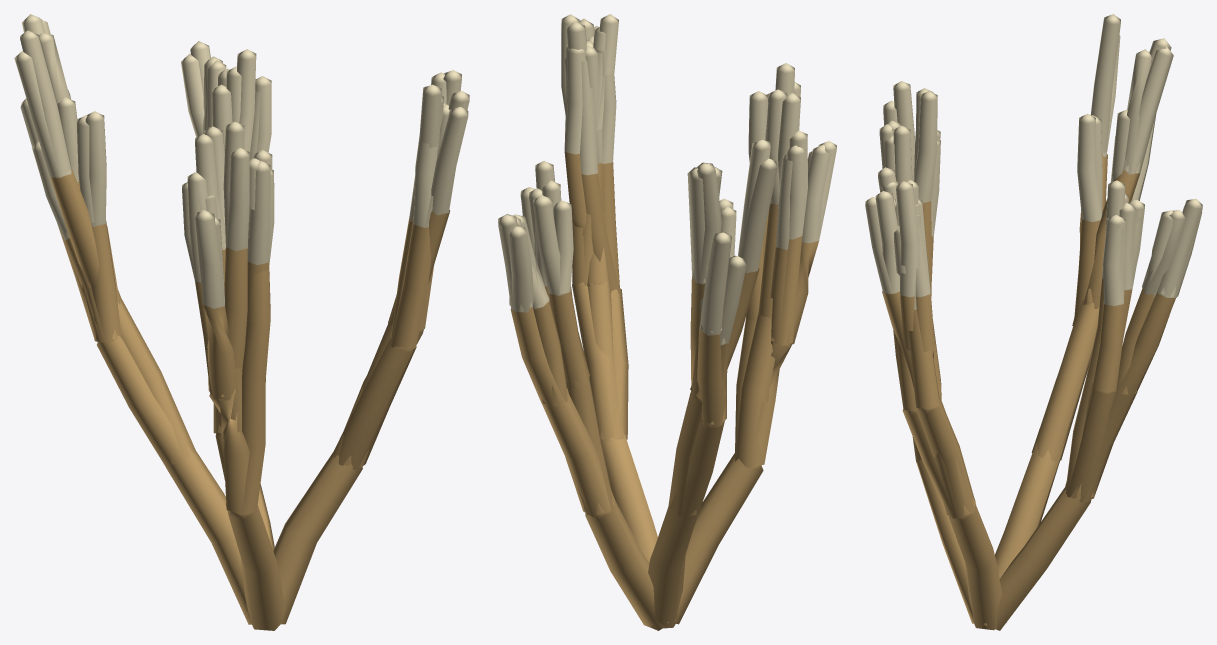
File: corail-cerf.glb
The picture shows the model from 3 angles, left to right: view 1: azimuth 30°, elevation 25°; view 2: azimuth 150°, elevation 25°; view 3: azimuth 270°, elevation 25°; orthographic projection. The views are drawn at different scales.
Visible parts, largest first — view 1: corail-cerf; view 2: corail-cerf; view 3: corail-cerf.
Boxes of the visible parts, <box> form: corail-cerf: <box>14,14,469,630</box>; corail-cerf: <box>498,14,836,630</box>; corail-cerf: <box>865,14,1202,630</box>.
Size of the model in its own units: 0.6554 by 1.1 by 0.6293.
